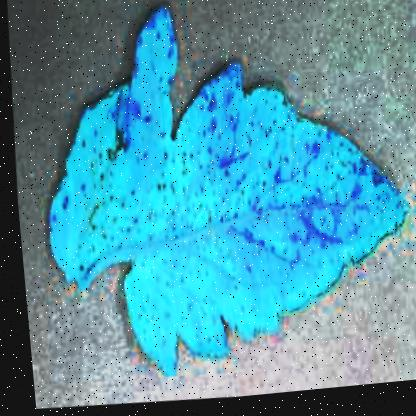BACTERIAL SPOT: (22, 0, 415, 398)
